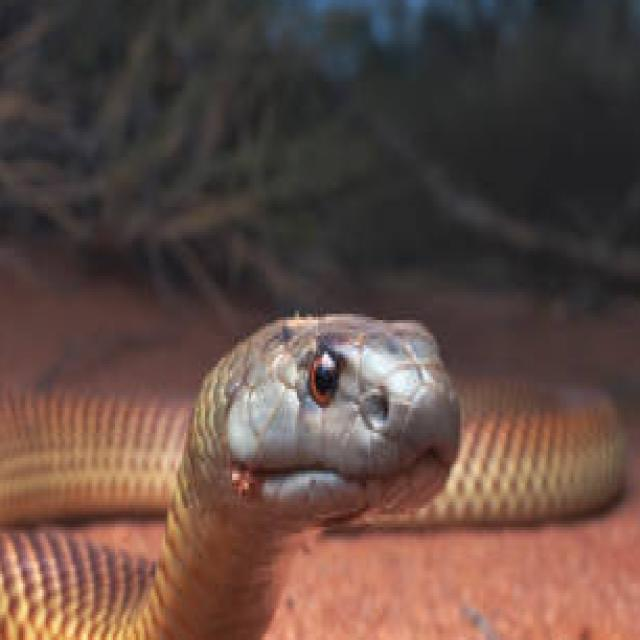Snake: (0, 307, 630, 640)
